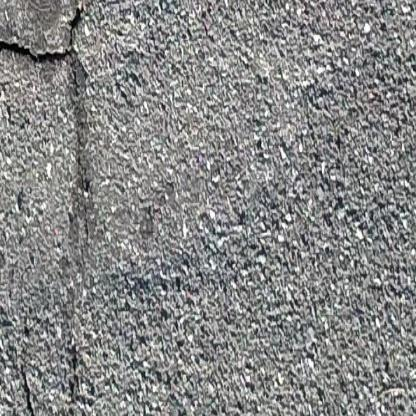Cracks: (60, 0, 112, 359), (0, 30, 91, 68)
